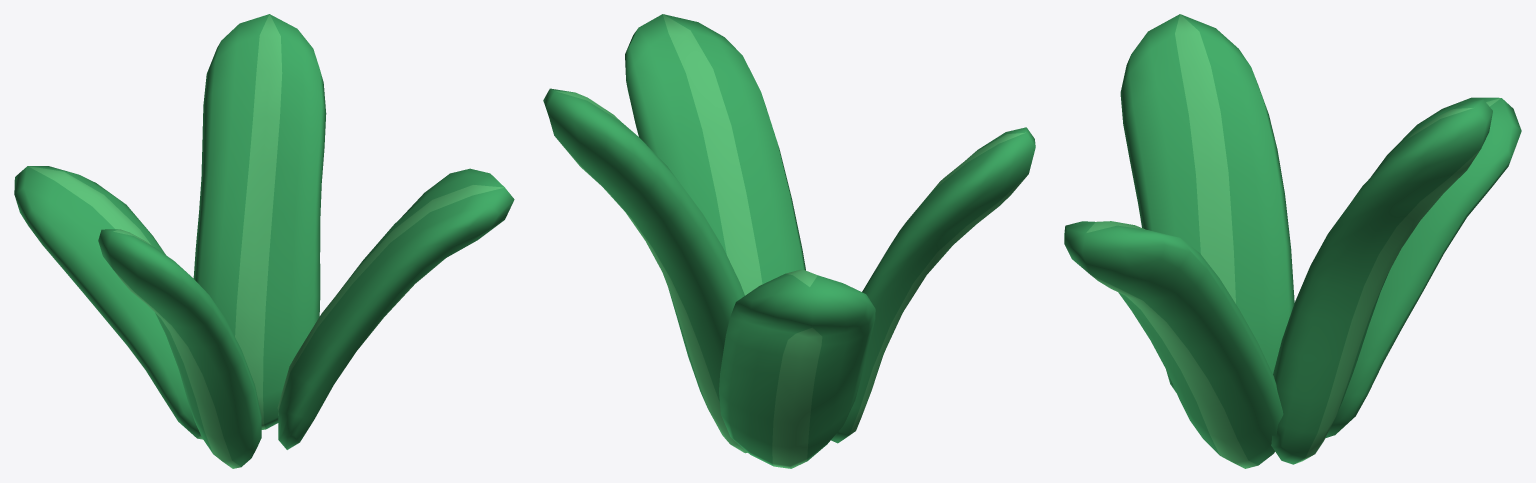
File: Flora_B_02.fbx
The picture shows the model from 3 angles, left to right: view 1: azimuth 30°, elevation 25°; view 2: azimuth 150°, elevation 25°; view 3: azimuth 270°, elevation 25°; orthographic projection. The views are drawn at different scales.
Parts seen in each view (by area): view 1: Flora_B_02_LOD0; view 2: Flora_B_02_LOD0; view 3: Flora_B_02_LOD0.
Boxes of the visible parts, x1=… form: Flora_B_02_LOD0: x1=14, y1=14, x2=514, y2=468; Flora_B_02_LOD0: x1=543, y1=14, x2=1035, y2=468; Flora_B_02_LOD0: x1=1064, y1=14, x2=1521, y2=468.
Size of what is drawn, in the model's own units: 358 by 318 by 325.
